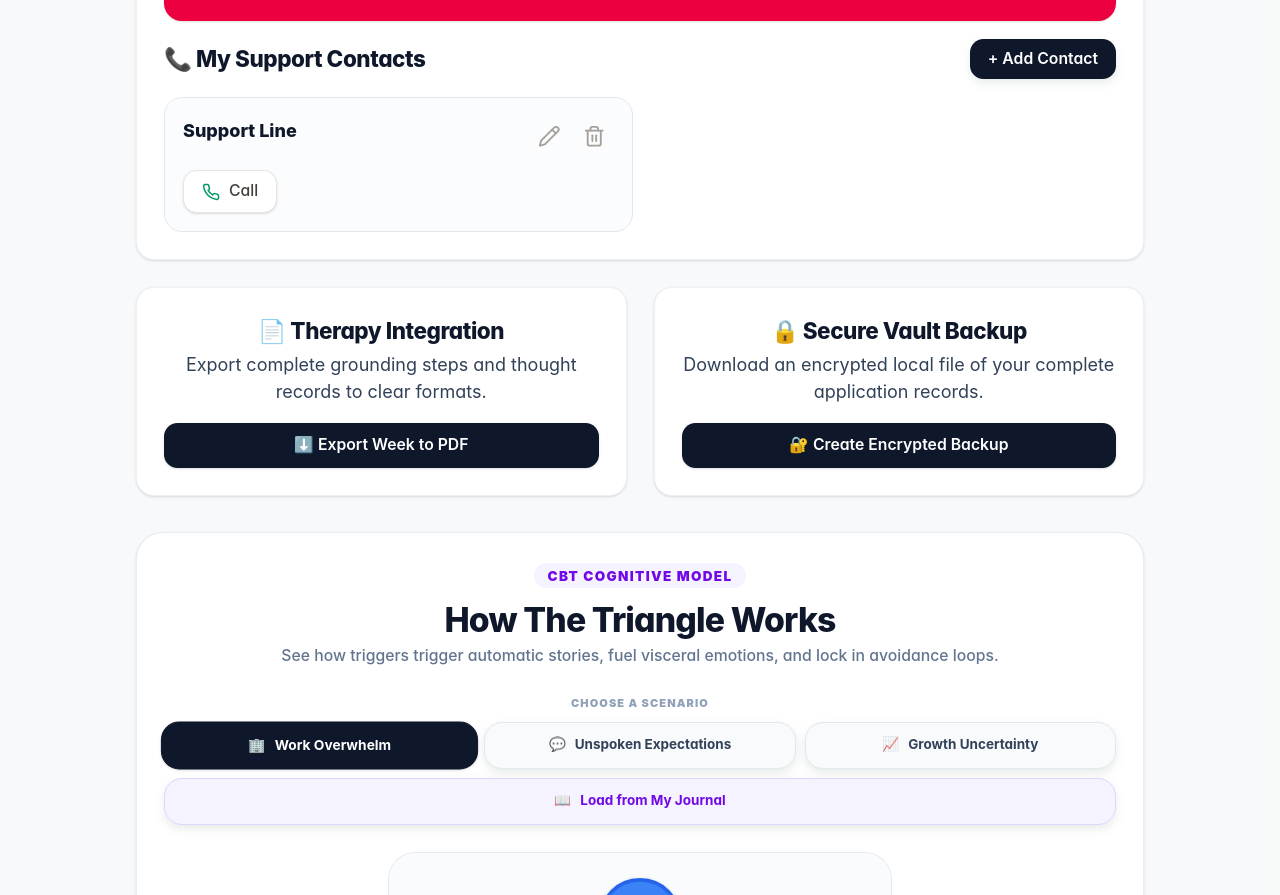
Test: Toolkit Page & 4 Utility Actions Audit › D. Secure Vault Backup Exporter › gathers localStorage data, creates download link, and displays success toast
(page scrolled)
Click the button "🔐 Create Encrypted Backup" at [899, 446], box [682,423,1116,468]
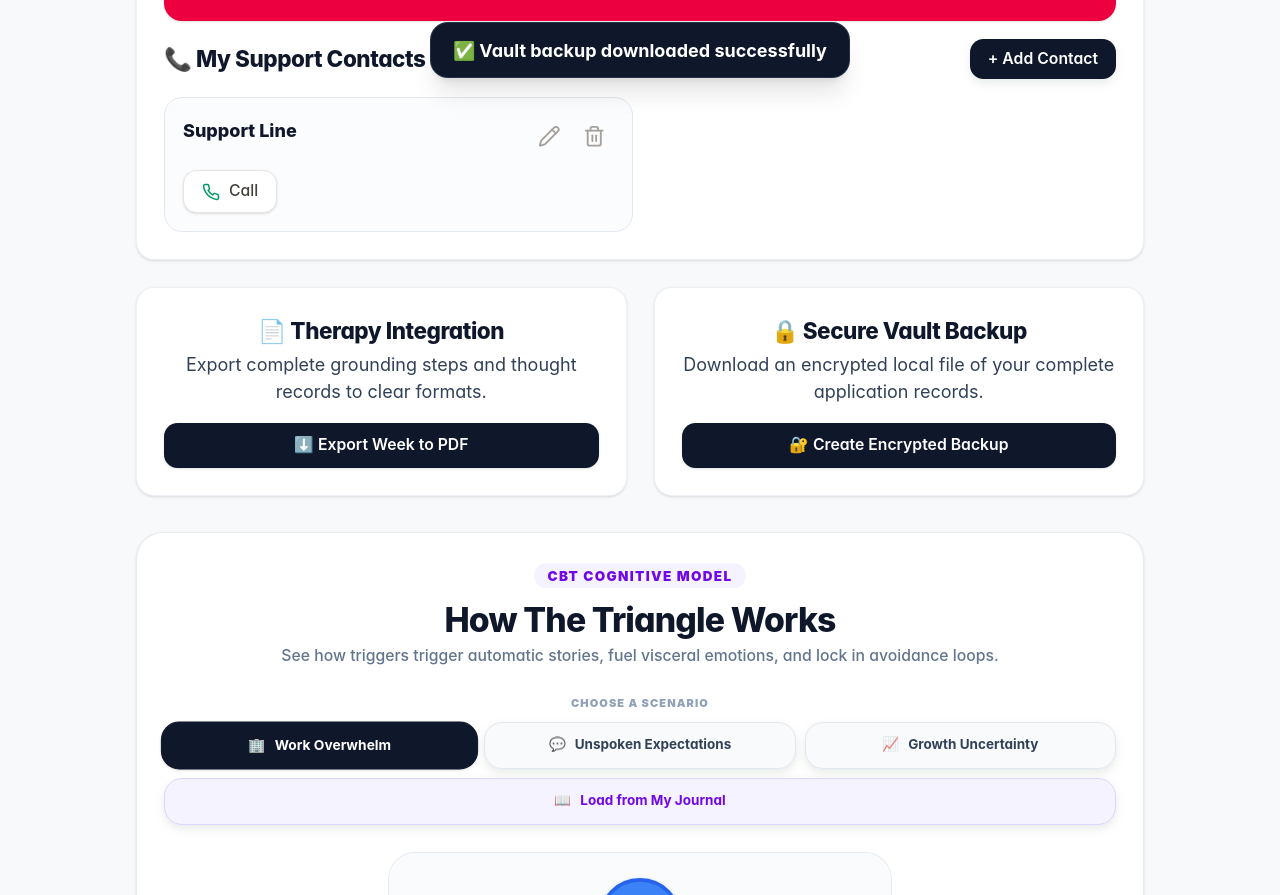
Now the text "✅ Vault backup downloaded successfully" is shown, box [453,36,827,64]
